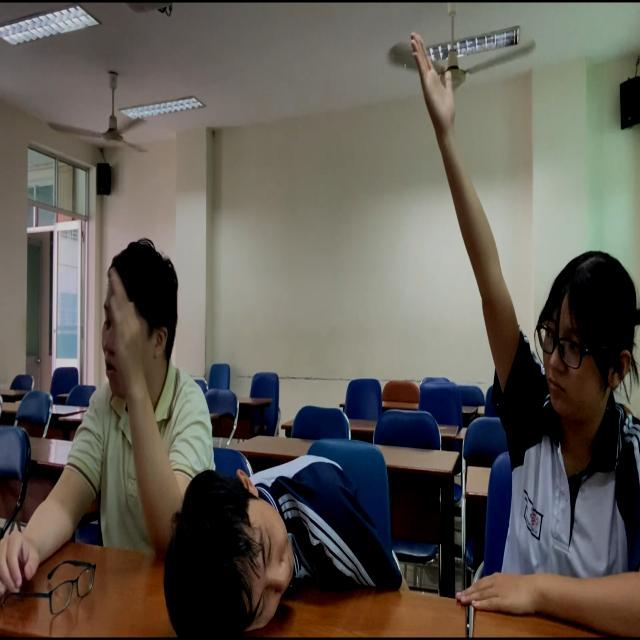raise_hand: (406, 34, 640, 622), (1, 238, 206, 602)
sleep: (165, 450, 418, 638)
